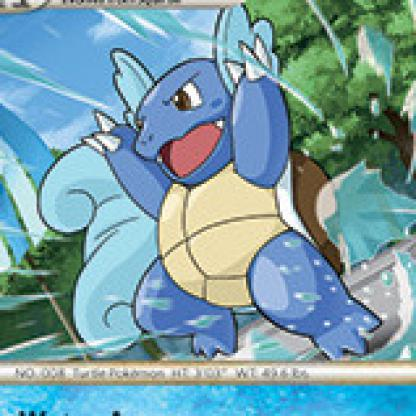Wartortle: (1, 16, 415, 362)
